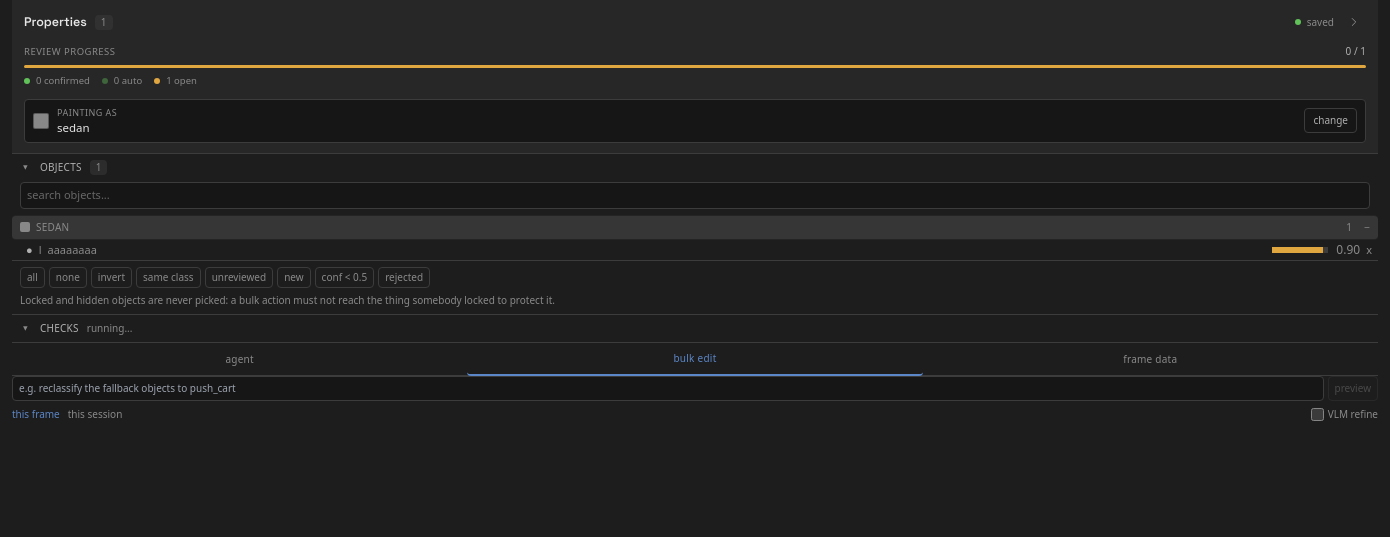
it: frame data tab › carries history, scene graph and road segmentation
This screenshot has width=1390, height=537.
Step 1. Click the tab "frame data" → (1150, 359), box [923, 343, 1378, 375]
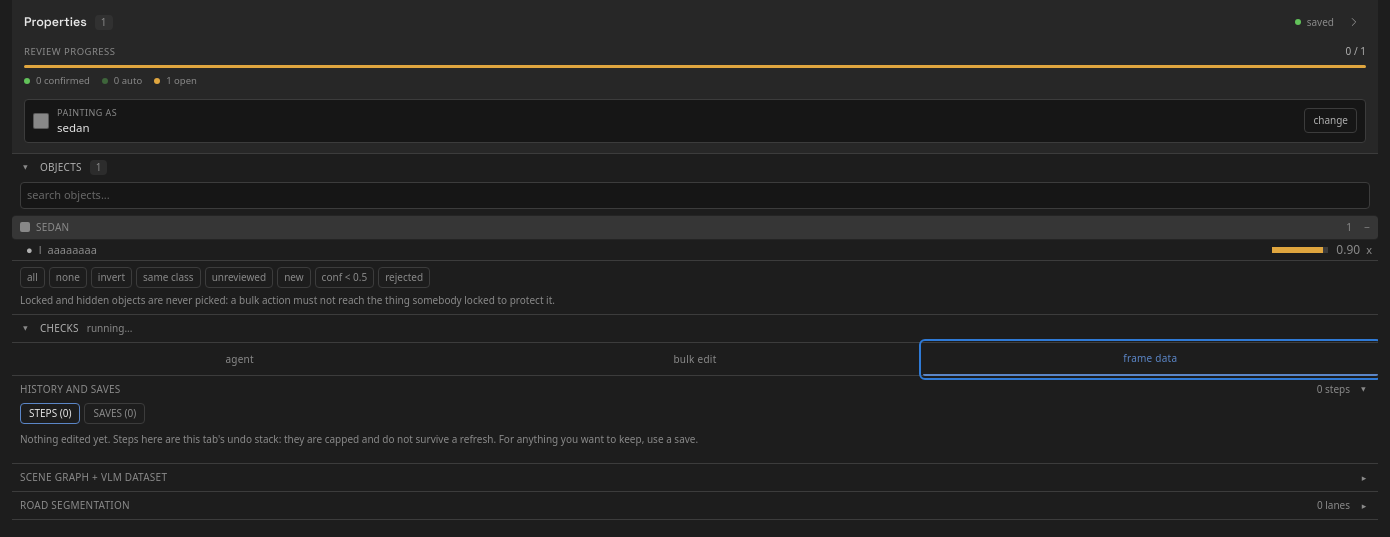
Expected: the text "history and saves" is shown, [20, 382, 121, 397]
Expected: the text "scene graph + vlm dataset" is shown, [20, 470, 167, 485]
Expected: the text "road segmentation" is shown, [20, 498, 130, 513]
